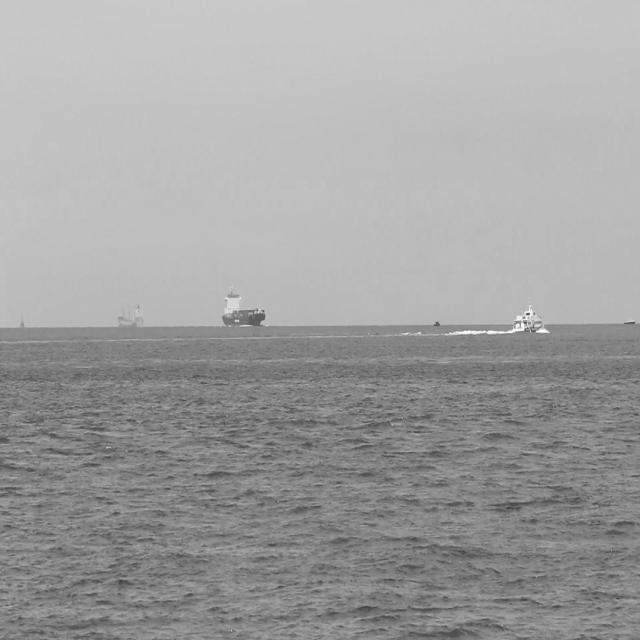ship: (220, 280, 268, 332), (511, 296, 546, 334), (116, 296, 147, 331), (620, 313, 638, 327)
